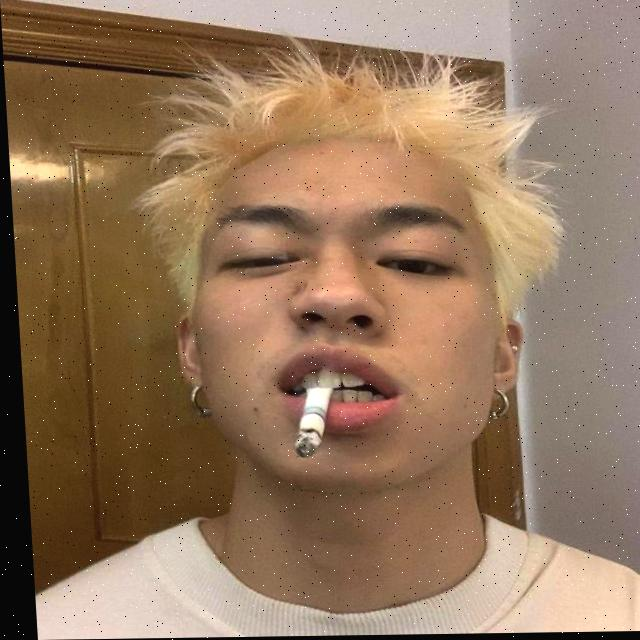cigarette: (287, 388, 328, 457)
